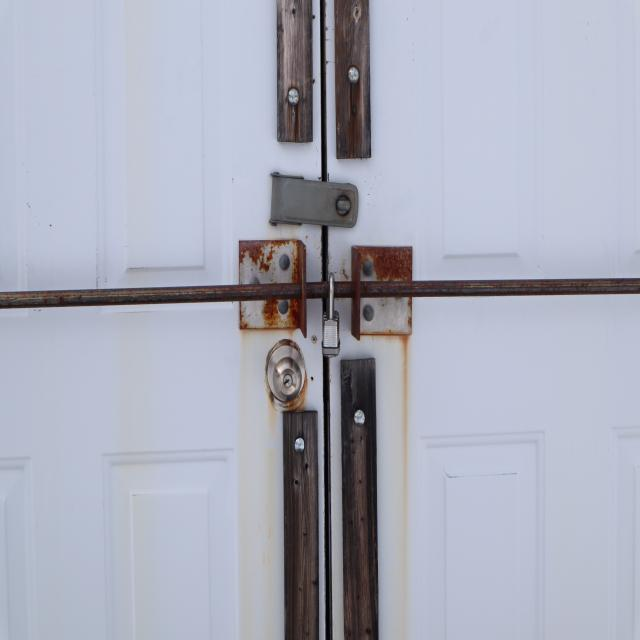door-knob: (268, 345, 305, 403)
